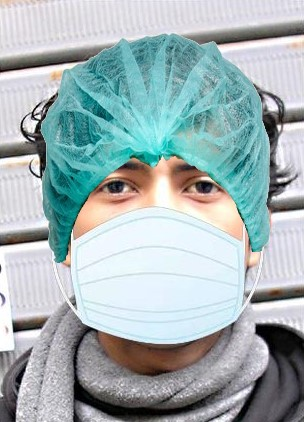with_mask_and_cap: (41, 38, 269, 347)
